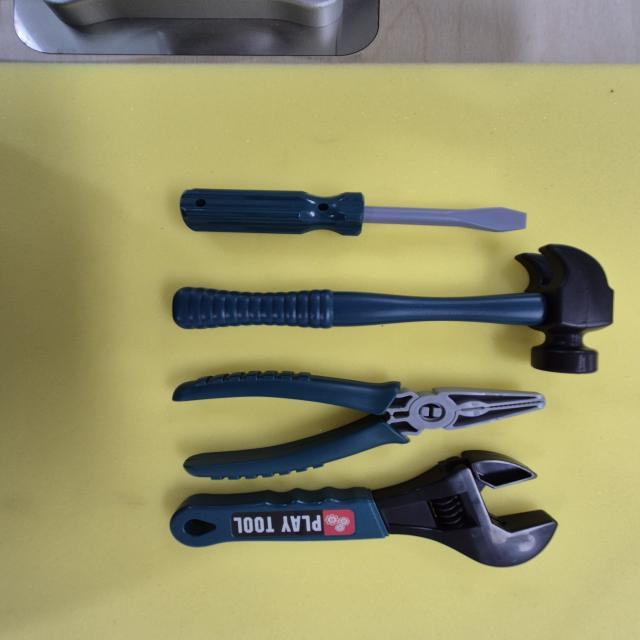hammer: (149, 230, 630, 378)
pliers: (156, 350, 553, 490)
screwdriver: (146, 172, 538, 246)
wrench: (131, 444, 573, 577)
